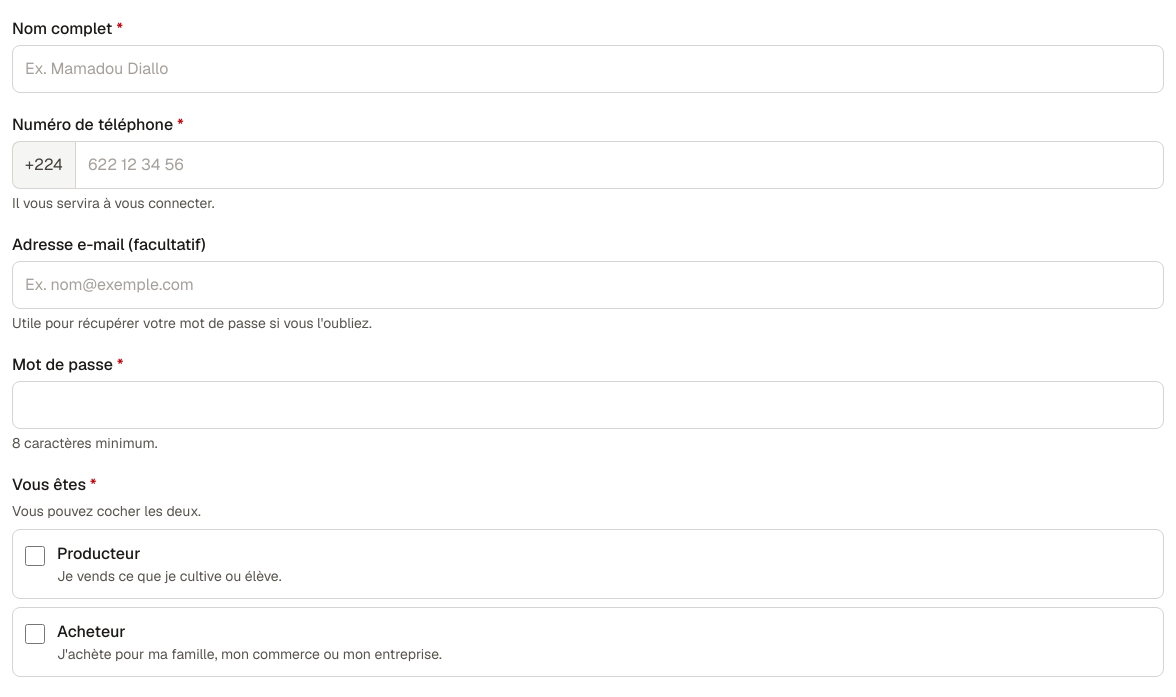
Scenario: RegisterForm › affiche les erreurs de l'API sous chaque champ et garde la saisie
The image size is (1176, 697).
In the field labelled "Nom complet *": (588, 69) top-left (12, 45), bottom-right (1164, 93), type "Aïssatou Bah"
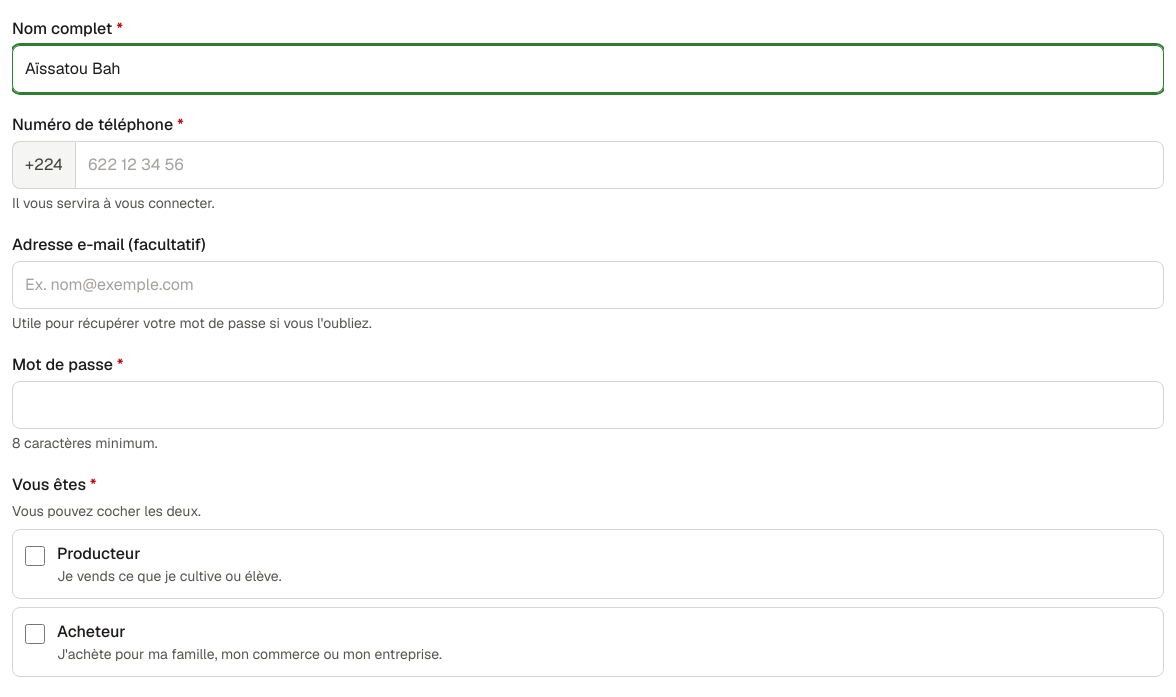
In the field labelled "Numéro de téléphone *": (619, 165) top-left (75, 141), bottom-right (1164, 189), type "12345"
(page scrolled)
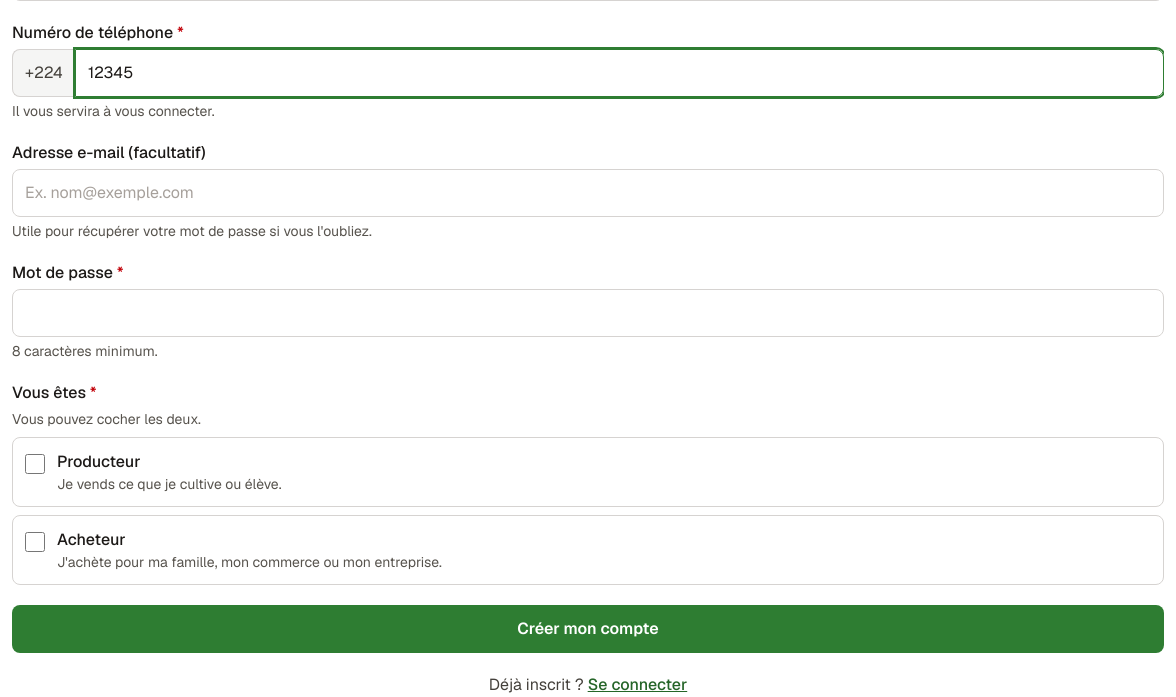
Click the button "Créer mon compte": (588, 629) top-left (12, 605), bottom-right (1164, 653)
(page scrolled)
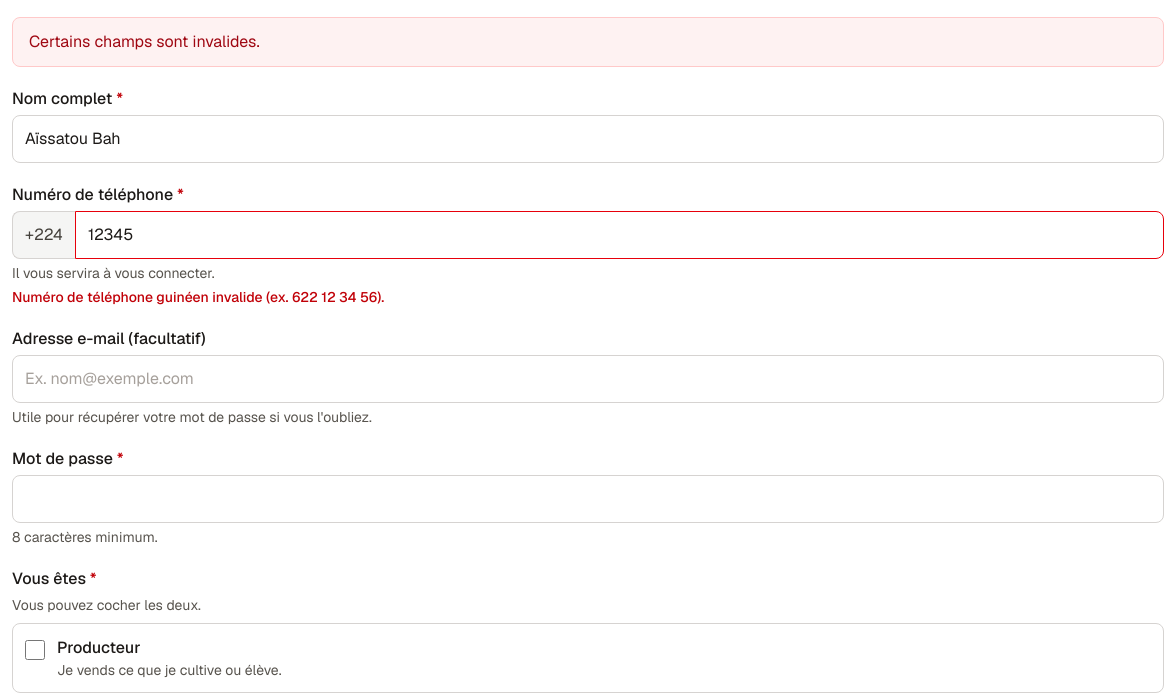
expect the message reads "Certains champs sont invalides.": met, box top-left (29, 31), bottom-right (260, 52)
